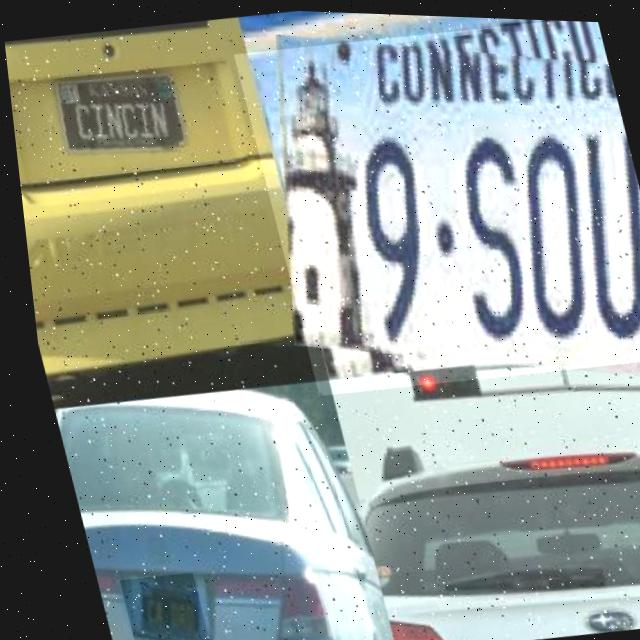LicensePlate: (229, 7, 640, 404), (45, 83, 177, 159), (105, 569, 197, 640)
